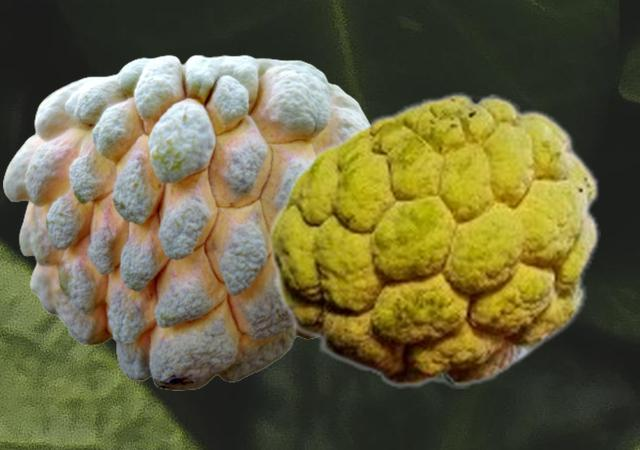atis: (3, 54, 369, 389), (266, 92, 599, 387)
